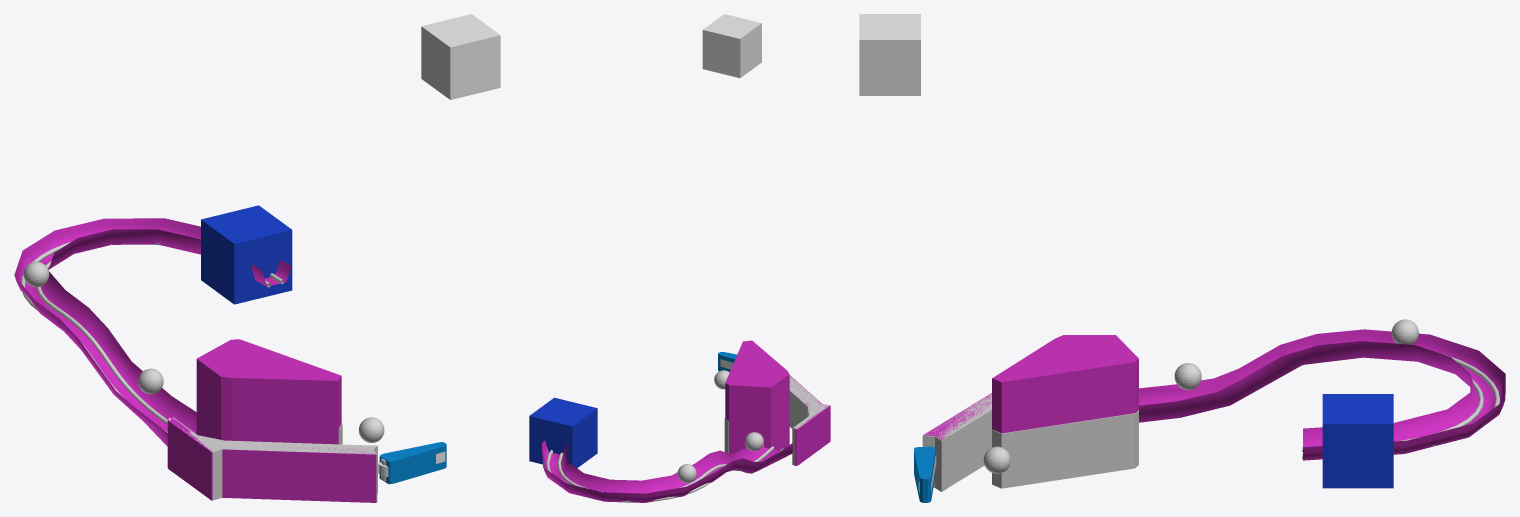
Rendered from wire_forms.dae.
3 renders of one model, left to right at view 1: azimuth 30°, elevation 25°; view 2: azimuth 150°, elevation 25°; view 3: azimuth 270°, elevation 25°, orthographic. The views are drawn at different scales.
Visible parts, largest first — view 1: P_left_inlane, P__ramp_physics_alt_c__convert__decimate__apply, GHOST, Cube, visual_inlane, FLIPPER, ramp_visual_triangles, BALL_3, BALL_2, BALL_1; view 2: P_left_inlane, P__ramp_physics_alt_c__convert__decimate__apply, GHOST, Cube, visual_inlane, ramp_visual_triangles; view 3: P__ramp_physics_alt_c__convert__decimate__apply, P_left_inlane, visual_inlane, GHOST, Cube, FLIPPER, ramp_visual_triangles.
Part boxes in pixels (x1=…): P_left_inlane: x1=167, y1=339, x2=376, y2=502; P__ramp_physics_alt_c__convert__decimate__apply: x1=14, y1=218, x2=291, y2=446; GHOST: x1=201, y1=205, x2=292, y2=304; Cube: x1=421, y1=14, x2=500, y2=99; visual_inlane: x1=168, y1=417, x2=377, y2=502; FLIPPER: x1=379, y1=442, x2=446, y2=484; ramp_visual_triangles: x1=21, y1=241, x2=284, y2=432; BALL_3: x1=23, y1=261, x2=49, y2=287; BALL_2: x1=138, y1=368, x2=163, y2=394; BALL_1: x1=359, y1=417, x2=384, y2=442; P_left_inlane: x1=725, y1=340, x2=830, y2=465; P__ramp_physics_alt_c__convert__decimate__apply: x1=541, y1=440, x2=792, y2=502; GHOST: x1=529, y1=397, x2=597, y2=468; Cube: x1=702, y1=14, x2=761, y2=77; visual_inlane: x1=724, y1=376, x2=829, y2=465; ramp_visual_triangles: x1=546, y1=446, x2=783, y2=502; P__ramp_physics_alt_c__convert__decimate__apply: x1=1139, y1=329, x2=1505, y2=460; P_left_inlane: x1=923, y1=335, x2=1138, y2=440; visual_inlane: x1=922, y1=393, x2=1138, y2=491; GHOST: x1=1322, y1=394, x2=1393, y2=488; Cube: x1=859, y1=14, x2=920, y2=95; FLIPPER: x1=914, y1=446, x2=935, y2=502; ramp_visual_triangles: x1=1302, y1=354, x2=1500, y2=458.
Size of what is drawn, in the model's own units: 2.88 by 6.39 by 5.41.
